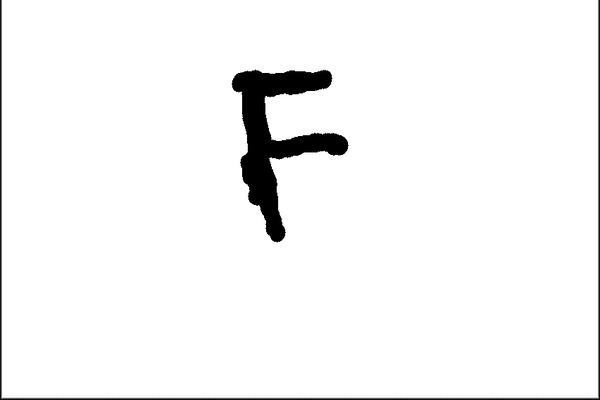F: (227, 64, 351, 245)
